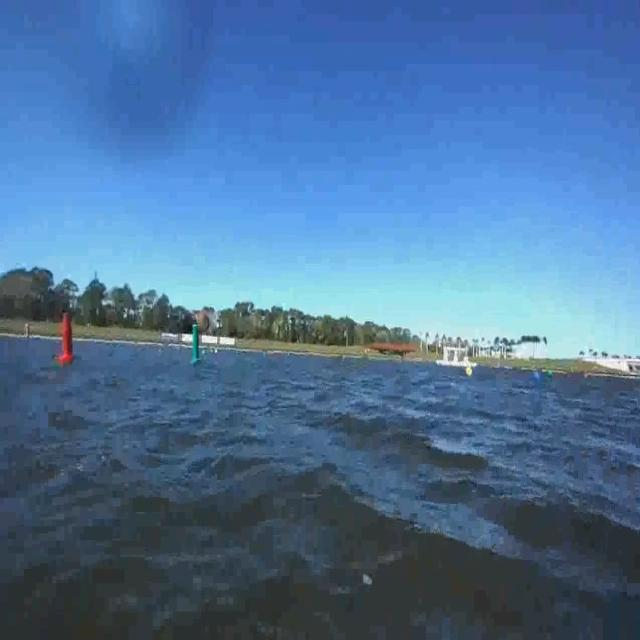green-column-buoy: (187, 316, 206, 368)
red-column-buoy: (58, 310, 74, 377)
yellow-buoy: (463, 364, 476, 386)
